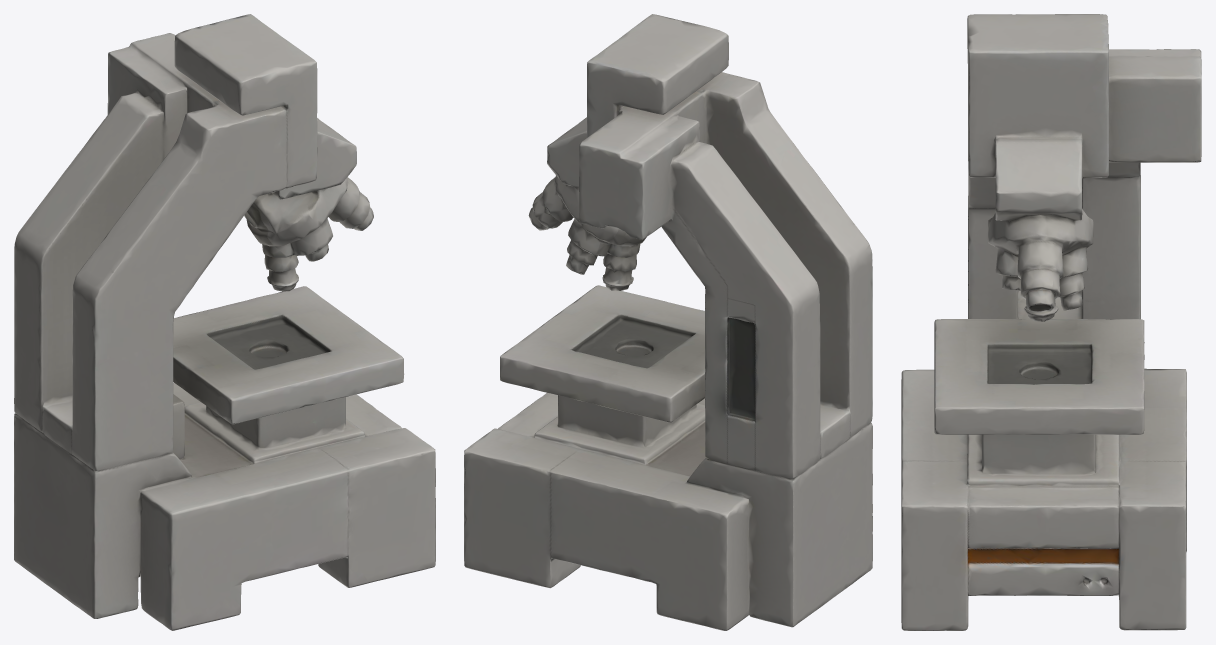
File: tripo-output.glb
The picture shows the model from 3 angles, left to right: view 1: azimuth 30°, elevation 25°; view 2: azimuth 150°, elevation 25°; view 3: azimuth 270°, elevation 25°; orthographic projection. The views are drawn at different scales.
Visible parts, largest first — view 1: tripo_node_330755cb-23c9-4451-9b11-c8996c1e3137; view 2: tripo_node_330755cb-23c9-4451-9b11-c8996c1e3137; view 3: tripo_node_330755cb-23c9-4451-9b11-c8996c1e3137.
Boxes of the visible parts, left/top/right/bottom form: tripo_node_330755cb-23c9-4451-9b11-c8996c1e3137: left=14, top=14, right=435, bottom=630; tripo_node_330755cb-23c9-4451-9b11-c8996c1e3137: left=464, top=14, right=872, bottom=630; tripo_node_330755cb-23c9-4451-9b11-c8996c1e3137: left=901, top=14, right=1201, bottom=630.
Size of the model in its own units: 0.6443 by 1 by 0.5081.
Materials: 1 (1 with a texture image).
